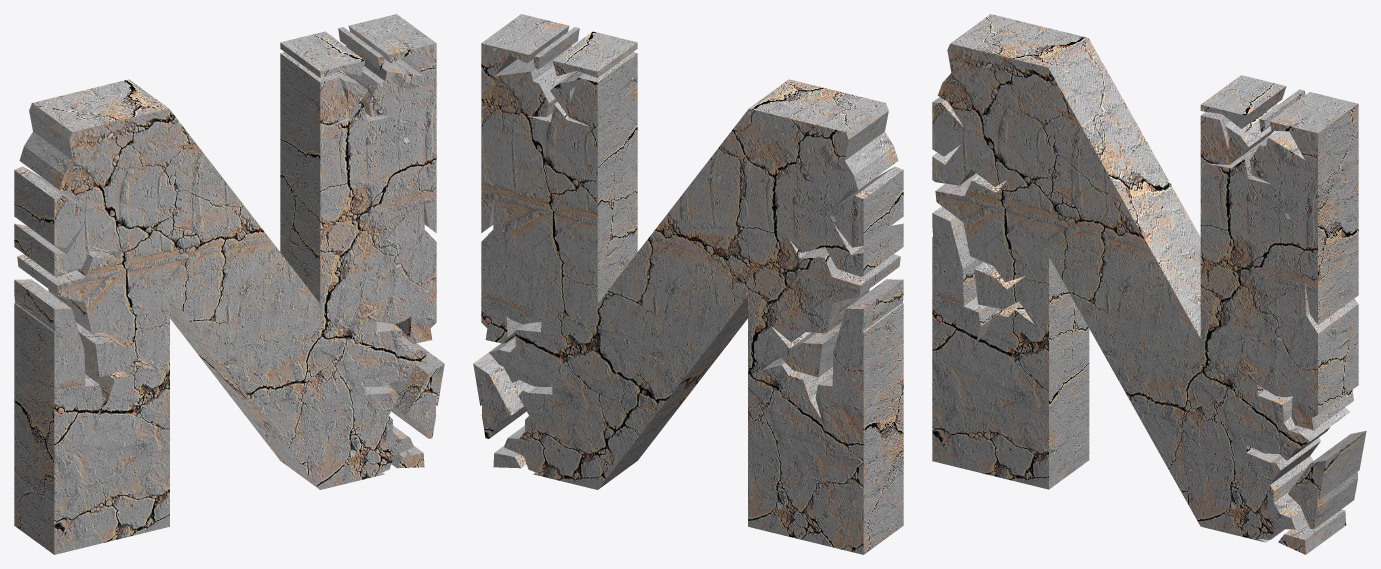
3 renders of one model, left to right at view 1: azimuth 30°, elevation 25°; view 2: azimuth 150°, elevation 25°; view 3: azimuth 330°, elevation 25°, orthographic.
Visible parts, largest first — view 1: N; view 2: N; view 3: N.
Boxes of the visible parts, left/top/right/bottom form: N: left=14, top=14, right=444, bottom=554; N: left=473, top=14, right=903, bottom=554; N: left=932, top=14, right=1366, bottom=554.
Bounding box in the file's own units: 84.35 × 86.9 × 15.
1 material, 1 textured.
